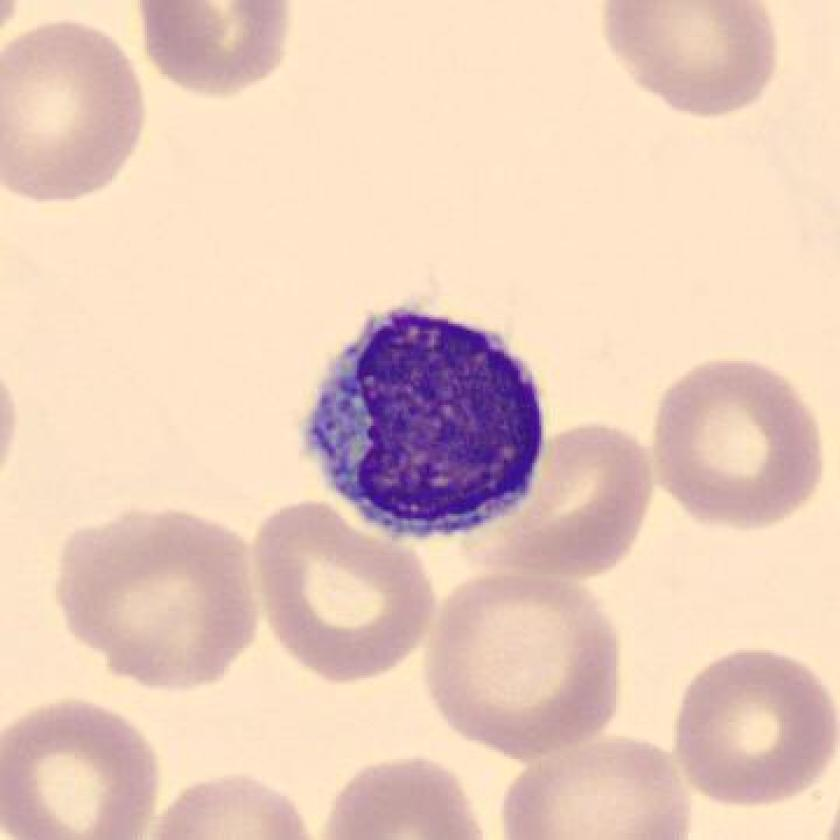lymphocyte: (286, 284, 561, 557)
